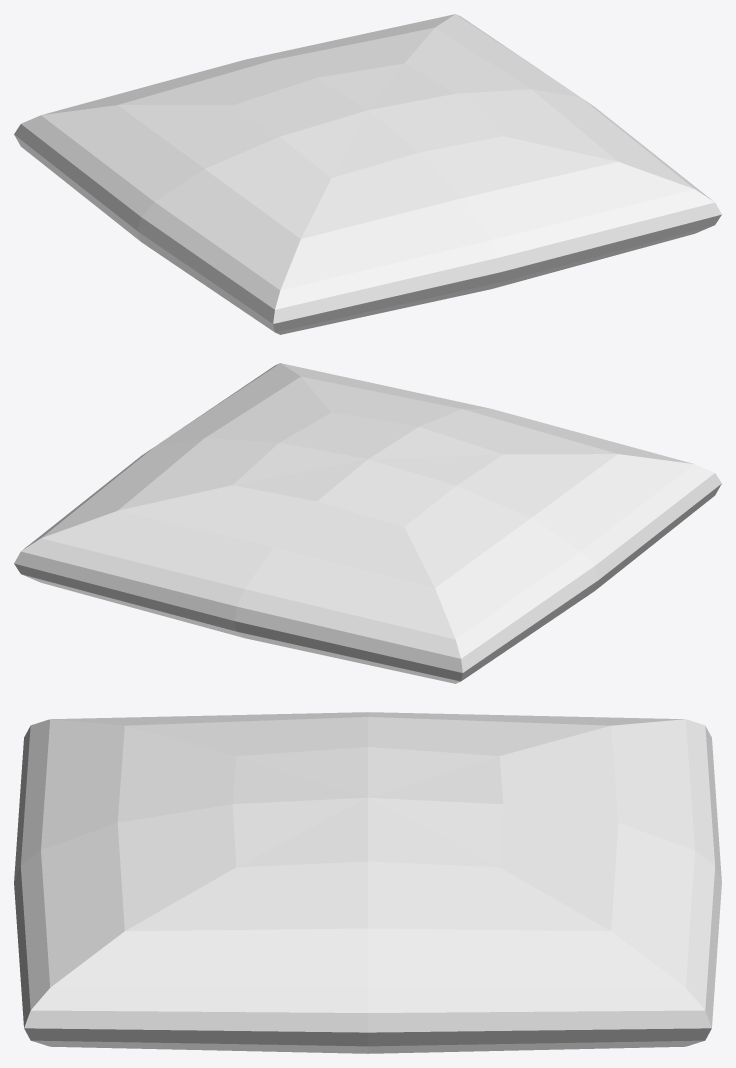
The model's file is bedpillow01.obj.
3 renders of one model, top to bottom at view 1: azimuth 30°, elevation 25°; view 2: azimuth 150°, elevation 25°; view 3: azimuth 270°, elevation 25°, orthographic. The views are drawn at different scales.
Visible parts, largest first — view 1: Sphere; view 2: Sphere; view 3: Sphere.
Boxes of the visible parts, <box> form: Sphere: <box>14,14,721,334</box>; Sphere: <box>14,363,721,683</box>; Sphere: <box>14,712,721,1053</box>.
Bounding box in the file's own units: 0.4386 × 0.0979 × 0.4386.
